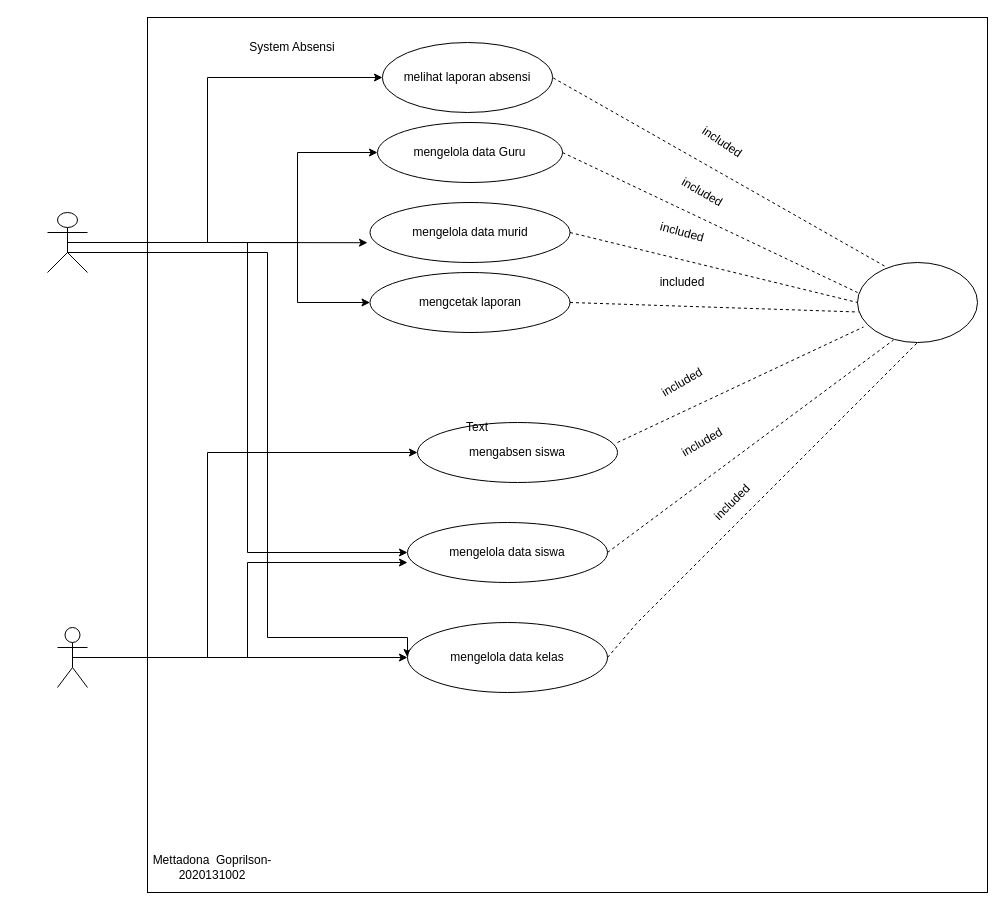
Image size: 1005x910. Some labels were removed from this diagram. The shapes that lost their labels are listed below. From the top down, each one's centre as x and y in pixels, then its label:
At pixel 67 242: "guru pendidik".
At pixel 917 302: "Login".
At pixel 72 657: "tenaga kependidikan".
